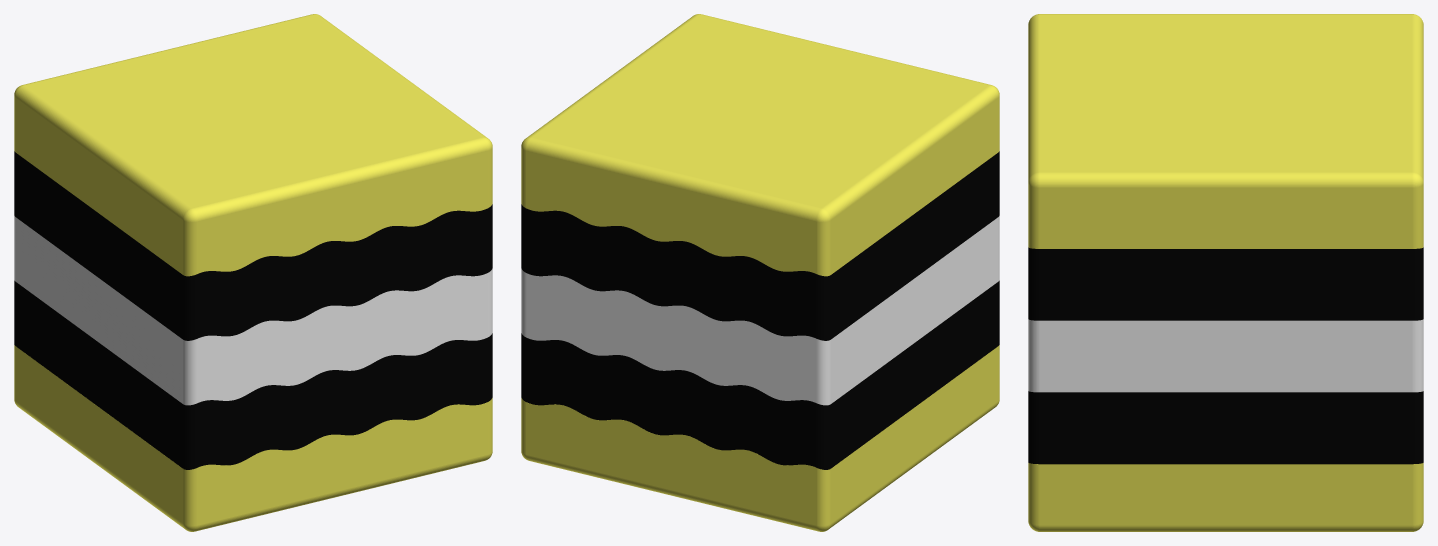
The model's file is liquorice_allsort_box_and_lid_100_v7_yellow.glb.
3 renders of one model, left to right at view 1: azimuth 30°, elevation 25°; view 2: azimuth 150°, elevation 25°; view 3: azimuth 270°, elevation 25°, orthographic. The views are drawn at different scales.
Parts seen in each view (by area): view 1: liquorice_allsort_box_and_lid_100_v7_5, liquorice_allsort_box_and_lid_100_v7_4, liquorice_allsort_box_and_lid_100_v7_2, liquorice_allsort_box_and_lid_100_v7_3, liquorice_allsort_box_and_lid_100_v7_1; view 2: liquorice_allsort_box_and_lid_100_v7_5, liquorice_allsort_box_and_lid_100_v7_4, liquorice_allsort_box_and_lid_100_v7_2, liquorice_allsort_box_and_lid_100_v7_3, liquorice_allsort_box_and_lid_100_v7_1; view 3: liquorice_allsort_box_and_lid_100_v7_5, liquorice_allsort_box_and_lid_100_v7_3, liquorice_allsort_box_and_lid_100_v7_2, liquorice_allsort_box_and_lid_100_v7_4, liquorice_allsort_box_and_lid_100_v7_1.
Boxes of the visible parts, bbox=[...] form: liquorice_allsort_box_and_lid_100_v7_5: bbox=[14, 14, 492, 276]; liquorice_allsort_box_and_lid_100_v7_4: bbox=[14, 151, 492, 340]; liquorice_allsort_box_and_lid_100_v7_2: bbox=[14, 280, 492, 469]; liquorice_allsort_box_and_lid_100_v7_3: bbox=[14, 216, 492, 405]; liquorice_allsort_box_and_lid_100_v7_1: bbox=[14, 345, 492, 531]; liquorice_allsort_box_and_lid_100_v7_5: bbox=[521, 14, 999, 276]; liquorice_allsort_box_and_lid_100_v7_4: bbox=[521, 151, 999, 340]; liquorice_allsort_box_and_lid_100_v7_2: bbox=[521, 280, 999, 469]; liquorice_allsort_box_and_lid_100_v7_3: bbox=[521, 216, 999, 405]; liquorice_allsort_box_and_lid_100_v7_1: bbox=[521, 345, 999, 531]; liquorice_allsort_box_and_lid_100_v7_5: bbox=[1028, 14, 1423, 248]; liquorice_allsort_box_and_lid_100_v7_3: bbox=[1028, 319, 1423, 392]; liquorice_allsort_box_and_lid_100_v7_2: bbox=[1028, 391, 1423, 464]; liquorice_allsort_box_and_lid_100_v7_4: bbox=[1028, 247, 1423, 320]; liquorice_allsort_box_and_lid_100_v7_1: bbox=[1028, 463, 1423, 531].
Size of the model in its own units: 10 by 10 by 10.
